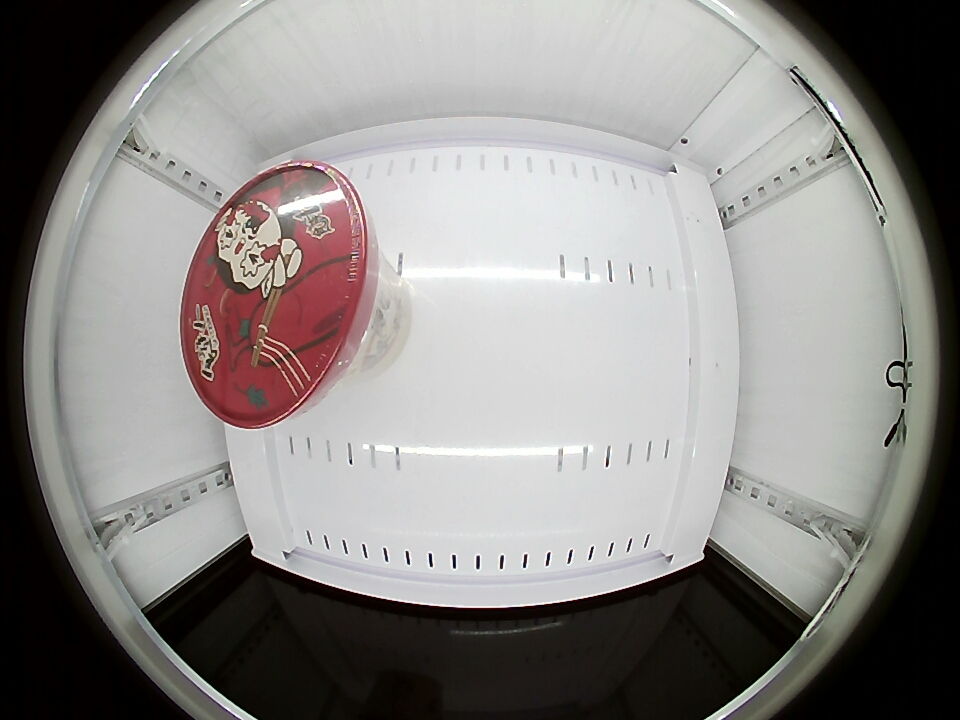suanlafen: (181, 161, 383, 429)
